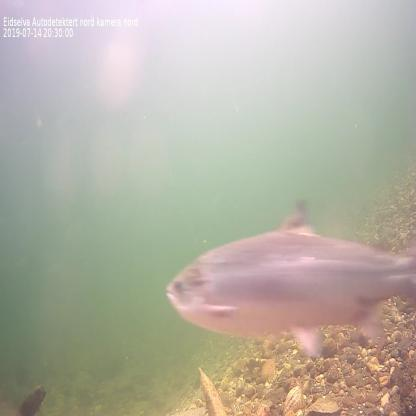salmon: (162, 192, 415, 363)
